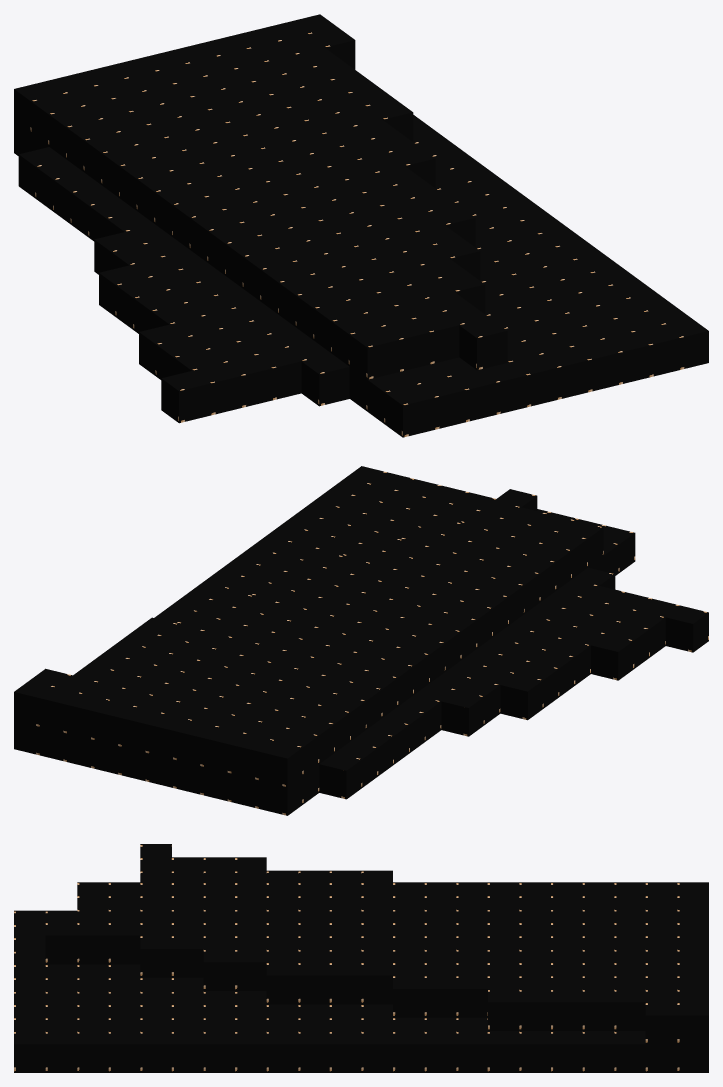
The model's file is asciugamano_usv.gltf.
The picture shows the model from 3 angles, top to bottom: view 1: azimuth 30°, elevation 25°; view 2: azimuth 150°, elevation 25°; view 3: azimuth 270°, elevation 25°; orthographic projection. The views are drawn at different scales.
Parts seen in each view (by area): view 1: Layer.2, Layer.1; view 2: Layer.2, Layer.1; view 3: Layer.2, Layer.1.
Part boxes in pixels (x1,y1,x2,y2): Layer.2: (14,14,507,423); Layer.1: (14,115,708,437); Layer.2: (14,489,708,799); Layer.1: (14,466,635,815); Layer.2: (45,844,708,1044); Layer.1: (14,910,708,1072).
Bounding box in the file's own units: 15 × 2 × 22.
1 material, 1 textured.
